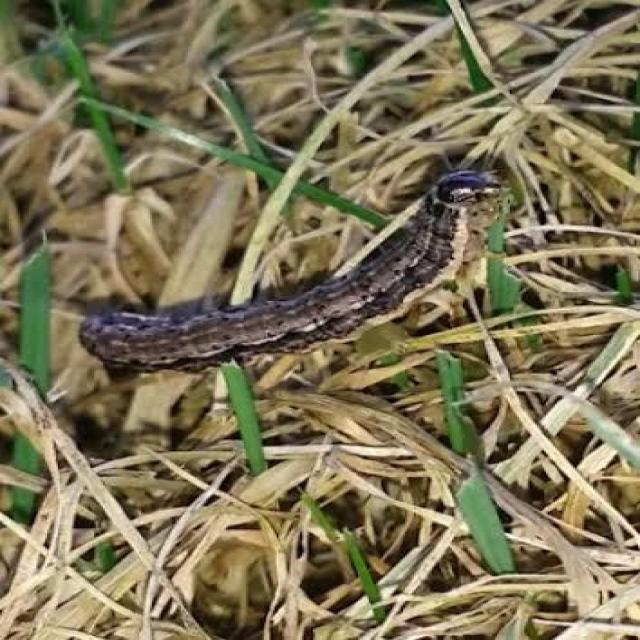army worm: (77, 168, 507, 368)
